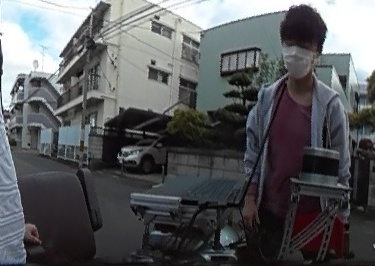person: (248, 4, 352, 266)
